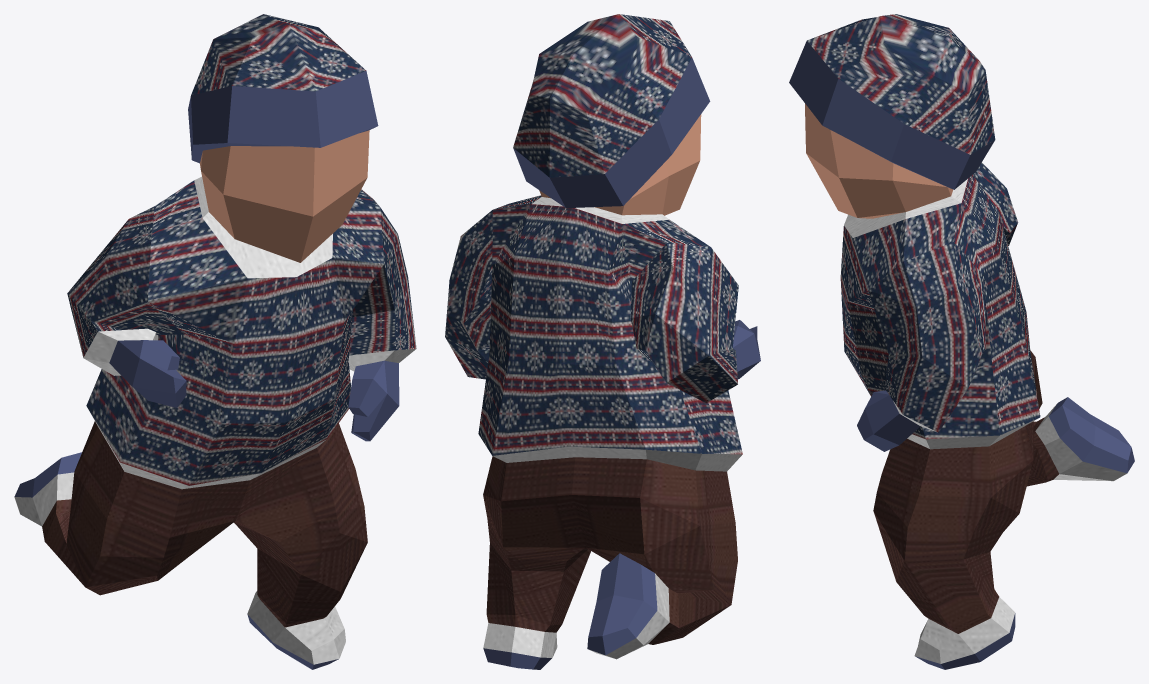
The model's file is AutumnBaby.006.glb.
3 renders of one model, left to right at view 1: azimuth 30°, elevation 25°; view 2: azimuth 150°, elevation 25°; view 3: azimuth 270°, elevation 25°, orthographic. The views are drawn at different scales.
Parts seen in each view (by area): view 1: AutumnBaby.006; view 2: AutumnBaby.006; view 3: AutumnBaby.006.
Part boxes in pixels (x1,y1,x2,y2): AutumnBaby.006: (14,14,416,669); AutumnBaby.006: (445,14,760,669); AutumnBaby.006: (789,14,1134,669).
Size of the model in its own units: 0.2878 by 0.6029 by 0.3054.
1 material, 1 textured.
